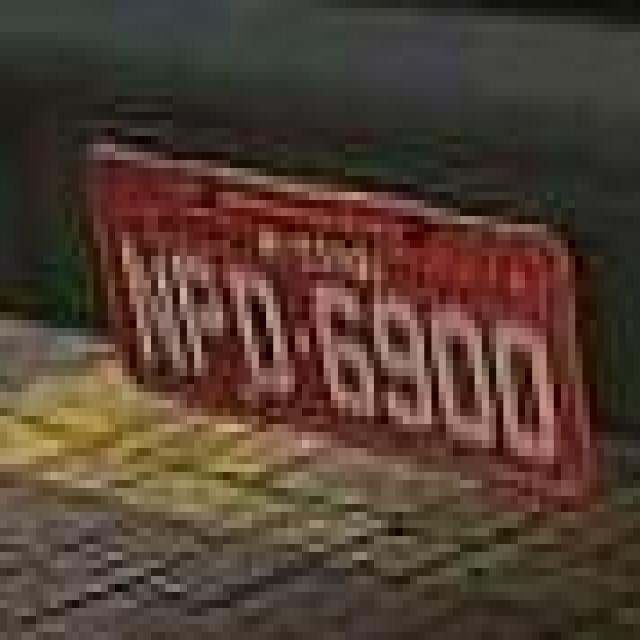0: (491, 308, 560, 476)
6: (308, 266, 378, 429)
9: (373, 283, 435, 444)
D: (226, 250, 299, 416)
N: (106, 224, 178, 384)
O: (432, 294, 497, 462)
P: (170, 234, 227, 384)
